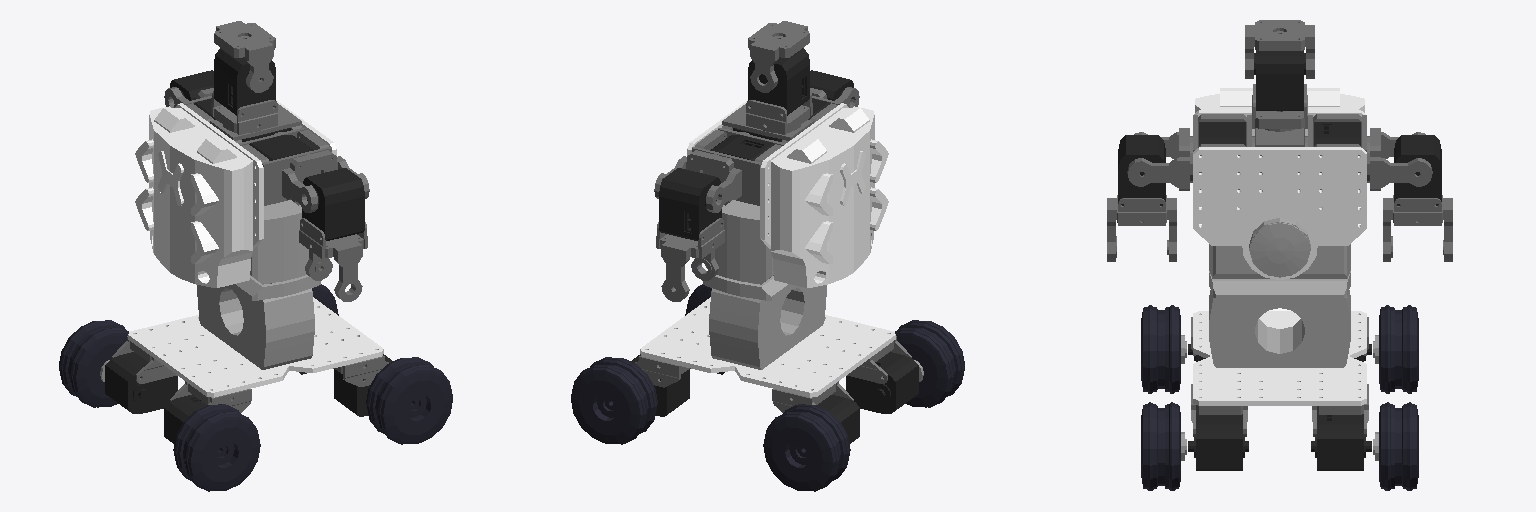
robot.urdf — kashiwagi:
<?xml version="1.0"?>
<robot name="kashiwagi"
       xmlns:xi="http://www.w3.org/2001/XInclude">
  <link name="bodyset93836863171920">
    <visual>
      <origin xyz="0.063 0 0.08" rpy="0 -0 0"/>
      <geometry>
        <mesh filename="package://kxr_models/meshes/kashiwagi/bodyset93836863171920_mesh.dae" scale="1 1 1" />
      </geometry>
    </visual>
    <collision>
      <origin xyz="0.063 0 0.08" rpy="0 -0 0"/>
      <geometry>
        <mesh filename="package://kxr_models/meshes/kashiwagi/bodyset93836863171920_mesh.dae" scale="1 1 1" />
      </geometry>
    </collision>
    <inertial>
      <mass value="0.612389" />
      <origin xyz="-0.003797 1.52277e-10 0.024121" rpy="0 -0 0"/>
      <inertia ixx="0.001795" ixy="-8.2781e-06" ixz="-1.67541e-06" iyy="0.002065" iyz="1.47818e-06" izz="0.003109"/>
    </inertial>
  </link>
  <link name="HEAD_LINK0">
    <visual>
      <origin xyz="-0.00725 0 0.1065" rpy="0 -0 0"/>
      <geometry>
        <mesh filename="package://kxr_models/meshes/kashiwagi/HEAD_LINK0_mesh.dae" scale="1 1 1" />
      </geometry>
    </visual>
    <collision>
      <origin xyz="-0.00725 0 0.1065" rpy="0 -0 0"/>
      <geometry>
        <mesh filename="package://kxr_models/meshes/kashiwagi/HEAD_LINK0_mesh.dae" scale="1 1 1" />
      </geometry>
    </collision>
    <inertial>
      <mass value="0.037398" />
      <origin xyz="-8.67362e-19 1.22056e-18 0.023093" rpy="0 -0 0"/>
      <inertia ixx="8.69139e-05" ixy="-8.41294e-22" ixz="8.61164e-09" iyy="9.09972e-05" iyz="-5.25778e-09" izz="2.5436e-05"/>
    </inertial>
  </link>
  <link name="HEAD_LINK1">
    <visual>
      <origin xyz="0 0 0.036" rpy="0 -0 0"/>
      <geometry>
        <mesh filename="package://kxr_models/meshes/kashiwagi/HEAD_LINK1_mesh.dae" scale="1 1 1" />
      </geometry>
    </visual>
    <collision>
      <origin xyz="0 0 0.036" rpy="0 -0 0"/>
      <geometry>
        <mesh filename="package://kxr_models/meshes/kashiwagi/HEAD_LINK1_mesh.dae" scale="1 1 1" />
      </geometry>
    </collision>
    <inertial>
      <mass value="0.010029" />
      <origin xyz="-8.67362e-19 -1.41698e-18 0.012149" rpy="0 -0 0"/>
      <inertia ixx="7.48977e-05" ixy="-1.14617e-09" ixz="8.66294e-10" iyy="7.40943e-05" iyz="5.39532e-09" izz="4.84628e-06"/>
    </inertial>
  </link>
  <link name="LARM_LINK0">
    <visual>
      <origin xyz="0.00725 0.0465 0.0915" rpy="0 -0 0"/>
      <geometry>
        <mesh filename="package://kxr_models/meshes/kashiwagi/LARM_LINK0_mesh.dae" scale="1 1 1" />
      </geometry>
    </visual>
    <collision>
      <origin xyz="0.00725 0.0465 0.0915" rpy="0 -0 0"/>
      <geometry>
        <mesh filename="package://kxr_models/meshes/kashiwagi/LARM_LINK0_mesh.dae" scale="1 1 1" />
      </geometry>
    </collision>
    <inertial>
      <mass value="0.011355" />
      <origin xyz="-5.20417e-18 0 0.012267" rpy="0 -0 0"/>
      <inertia ixx="5.30156e-05" ixy="-1.82679e-09" ixz="1.62901e-09" iyy="3.96605e-05" iyz="3.6276e-09" izz="1.8654e-05"/>
    </inertial>
  </link>
  <link name="LARM_LINK1">
    <visual>
      <origin xyz="0 0.029 0" rpy="0 -0 0"/>
      <geometry>
        <mesh filename="package://kxr_models/meshes/kashiwagi/LARM_LINK1_mesh.dae" scale="1 1 1" />
      </geometry>
    </visual>
    <collision>
      <origin xyz="0 0.029 0" rpy="0 -0 0"/>
      <geometry>
        <mesh filename="package://kxr_models/meshes/kashiwagi/LARM_LINK1_mesh.dae" scale="1 1 1" />
      </geometry>
    </collision>
    <inertial>
      <mass value="0.042494" />
      <origin xyz="-6.07153e-18 0 -0.016632" rpy="0 -0 0"/>
      <inertia ixx="7.93507e-05" ixy="-1.82679e-09" ixz="1.02406e-08" iyy="4.90024e-05" iyz="-1.63018e-09" izz="6.06587e-05"/>
    </inertial>
  </link>
  <link name="LLEG_LINK0">
    <visual>
      <origin xyz="0.063 0.048 -0.056" rpy="0 -0 0"/>
      <geometry>
        <mesh filename="package://kxr_models/meshes/kashiwagi/LLEG_LINK0_mesh.dae" scale="1 1 1" />
      </geometry>
    </visual>
    <collision>
      <origin xyz="0.063 0.048 -0.056" rpy="0 -0 0"/>
      <geometry>
        <mesh filename="package://kxr_models/meshes/kashiwagi/LLEG_LINK0_mesh.dae" scale="1 1 1" />
      </geometry>
    </collision>
    <inertial>
      <mass value="0.04244" />
      <origin xyz="0 0.013847 6.93889e-18" rpy="0 -0 0"/>
      <inertia ixx="5.68252e-05" ixy="1.24349e-22" ixz="2.72088e-23" iyy="5.77935e-05" iyz="2.36521e-21" izz="8.65005e-05"/>
    </inertial>
  </link>
  <link name="LLEG_LINK1">
    <visual>
      <origin xyz="-0.063 0.048 -0.056" rpy="0 -0 0"/>
      <geometry>
        <mesh filename="package://kxr_models/meshes/kashiwagi/LLEG_LINK1_mesh.dae" scale="1 1 1" />
      </geometry>
    </visual>
    <collision>
      <origin xyz="-0.063 0.048 -0.056" rpy="0 -0 0"/>
      <geometry>
        <mesh filename="package://kxr_models/meshes/kashiwagi/LLEG_LINK1_mesh.dae" scale="1 1 1" />
      </geometry>
    </collision>
    <inertial>
      <mass value="0.04244" />
      <origin xyz="0 0.013847 6.93889e-18" rpy="0 -0 0"/>
      <inertia ixx="5.68252e-05" ixy="1.23549e-22" ixz="3.06644e-23" iyy="5.77935e-05" iyz="-1.96682e-21" izz="8.65005e-05"/>
    </inertial>
  </link>
  <link name="RARM_LINK0">
    <visual>
      <origin xyz="0.00725 -0.0465 0.0915" rpy="0 -0 0"/>
      <geometry>
        <mesh filename="package://kxr_models/meshes/kashiwagi/RARM_LINK0_mesh.dae" scale="1 1 1" />
      </geometry>
    </visual>
    <collision>
      <origin xyz="0.00725 -0.0465 0.0915" rpy="0 -0 0"/>
      <geometry>
        <mesh filename="package://kxr_models/meshes/kashiwagi/RARM_LINK0_mesh.dae" scale="1 1 1" />
      </geometry>
    </collision>
    <inertial>
      <mass value="0.011355" />
      <origin xyz="-5.20417e-18 0 0.012267" rpy="0 -0 0"/>
      <inertia ixx="5.30156e-05" ixy="-1.82679e-09" ixz="1.62901e-09" iyy="3.96605e-05" iyz="3.6276e-09" izz="1.8654e-05"/>
    </inertial>
  </link>
  <link name="RARM_LINK1">
    <visual>
      <origin xyz="0 -0.029 0" rpy="0 -0 0"/>
      <geometry>
        <mesh filename="package://kxr_models/meshes/kashiwagi/RARM_LINK1_mesh.dae" scale="1 1 1" />
      </geometry>
    </visual>
    <collision>
      <origin xyz="0 -0.029 0" rpy="0 -0 0"/>
      <geometry>
        <mesh filename="package://kxr_models/meshes/kashiwagi/RARM_LINK1_mesh.dae" scale="1 1 1" />
      </geometry>
    </collision>
    <inertial>
      <mass value="0.042494" />
      <origin xyz="-6.07153e-18 0 -0.016632" rpy="0 -0 0"/>
      <inertia ixx="7.93507e-05" ixy="-1.82679e-09" ixz="1.02406e-08" iyy="4.90024e-05" iyz="-1.63018e-09" izz="6.06587e-05"/>
    </inertial>
  </link>
  <link name="RLEG_LINK0">
    <visual>
      <origin xyz="0.063 -0.048 -0.056" rpy="0 -0 0"/>
      <geometry>
        <mesh filename="package://kxr_models/meshes/kashiwagi/RLEG_LINK0_mesh.dae" scale="1 1 1" />
      </geometry>
    </visual>
    <collision>
      <origin xyz="0.063 -0.048 -0.056" rpy="0 -0 0"/>
      <geometry>
        <mesh filename="package://kxr_models/meshes/kashiwagi/RLEG_LINK0_mesh.dae" scale="1 1 1" />
      </geometry>
    </collision>
    <inertial>
      <mass value="0.04244" />
      <origin xyz="0 0.013847 6.93889e-18" rpy="0 -0 0"/>
      <inertia ixx="5.68252e-05" ixy="1.23677e-22" ixz="3.35121e-23" iyy="5.77935e-05" iyz="5.02547e-23" izz="8.65005e-05"/>
    </inertial>
  </link>
  <link name="RLEG_LINK1">
    <visual>
      <origin xyz="-0.063 -0.048 -0.056" rpy="0 -0 0"/>
      <geometry>
        <mesh filename="package://kxr_models/meshes/kashiwagi/RLEG_LINK1_mesh.dae" scale="1 1 1" />
      </geometry>
    </visual>
    <collision>
      <origin xyz="-0.063 -0.048 -0.056" rpy="0 -0 0"/>
      <geometry>
        <mesh filename="package://kxr_models/meshes/kashiwagi/RLEG_LINK1_mesh.dae" scale="1 1 1" />
      </geometry>
    </collision>
    <inertial>
      <mass value="0.04244" />
      <origin xyz="0 0.013847 6.93889e-18" rpy="0 -0 0"/>
      <inertia ixx="5.68252e-05" ixy="1.22878e-22" ixz="3.79086e-23" iyy="5.77935e-05" iyz="-3.13686e-21" izz="8.65005e-05"/>
    </inertial>
  </link>
  <joint name="HEAD_JOINT0" type="revolute">
    <parent link="bodyset93836863171920"/>
    <child  link="HEAD_LINK0"/>
    <origin xyz="-0.00725 0 0.1065" rpy="0 -0 0 "/>
    <axis   xyz="0 0 -1"/>
    <limit lower="-2.96706" upper="2.96706" effort="0.656248" velocity="7.47998" />
    <dynamics damping="0.2" friction="0" />
  </joint>
  <joint name="HEAD_JOINT1" type="revolute">
    <parent link="HEAD_LINK0"/>
    <child  link="HEAD_LINK1"/>
    <origin xyz="0 0 0.036" rpy="0 -0 0 "/>
    <axis   xyz="0 -1 0"/>
    <limit lower="-2.0944" upper="2.0944" effort="0.656248" velocity="7.47998" />
    <dynamics damping="0.2" friction="0" />
  </joint>
  <joint name="LARM_JOINT0" type="revolute">
    <parent link="bodyset93836863171920"/>
    <child  link="LARM_LINK0"/>
    <origin xyz="0.00725 0.0465 0.0915" rpy="0 -0 0 "/>
    <axis   xyz="0 -1 0"/>
    <limit lower="-3.14159" upper="3.14159" effort="0.656248" velocity="7.47998" />
    <dynamics damping="0.2" friction="0" />
  </joint>
  <joint name="LARM_JOINT1" type="revolute">
    <parent link="LARM_LINK0"/>
    <child  link="LARM_LINK1"/>
    <origin xyz="0 0.029 0" rpy="0 -0 0 "/>
    <axis   xyz="1 0 0"/>
    <limit lower="-0.523599" upper="3.22886" effort="0.656248" velocity="7.47998" />
    <dynamics damping="0.2" friction="0" />
  </joint>
  <joint name="LLEG_JOINT0" type="revolute">
    <parent link="bodyset93836863171920"/>
    <child  link="LLEG_LINK0"/>
    <origin xyz="0.063 0.048 -0.056" rpy="0 -0 0 "/>
    <axis   xyz="0 1 0"/>
    <limit lower="-1745.33" upper="1745.33" effort="0.656248" velocity="7.47998" />
    <dynamics damping="0.2" friction="0" />
  </joint>
  <joint name="LLEG_JOINT1" type="revolute">
    <parent link="bodyset93836863171920"/>
    <child  link="LLEG_LINK1"/>
    <origin xyz="-0.063 0.048 -0.056" rpy="0 -0 0 "/>
    <axis   xyz="0 1 0"/>
    <limit lower="-1745.33" upper="1745.33" effort="0.656248" velocity="7.47998" />
    <dynamics damping="0.2" friction="0" />
  </joint>
  <joint name="RARM_JOINT0" type="revolute">
    <parent link="bodyset93836863171920"/>
    <child  link="RARM_LINK0"/>
    <origin xyz="0.00725 -0.0465 0.0915" rpy="0 -0 0 "/>
    <axis   xyz="0 1 0"/>
    <limit lower="-3.14159" upper="3.14159" effort="0.656248" velocity="7.47998" />
    <dynamics damping="0.2" friction="0" />
  </joint>
  <joint name="RARM_JOINT1" type="revolute">
    <parent link="RARM_LINK0"/>
    <child  link="RARM_LINK1"/>
    <origin xyz="0 -0.029 0" rpy="0 -0 0 "/>
    <axis   xyz="1 0 0"/>
    <limit lower="-3.22886" upper="0.523599" effort="0.656248" velocity="7.47998" />
    <dynamics damping="0.2" friction="0" />
  </joint>
  <joint name="RLEG_JOINT0" type="revolute">
    <parent link="bodyset93836863171920"/>
    <child  link="RLEG_LINK0"/>
    <origin xyz="0.063 -0.048 -0.056" rpy="0 -0 0 "/>
    <axis   xyz="0 1 0"/>
    <limit lower="-1745.33" upper="1745.33" effort="0.656248" velocity="7.47998" />
    <dynamics damping="0.2" friction="0" />
  </joint>
  <joint name="RLEG_JOINT1" type="revolute">
    <parent link="bodyset93836863171920"/>
    <child  link="RLEG_LINK1"/>
    <origin xyz="-0.063 -0.048 -0.056" rpy="0 -0 0 "/>
    <axis   xyz="0 1 0"/>
    <limit lower="-1745.33" upper="1745.33" effort="0.656248" velocity="7.47998" />
    <dynamics damping="0.2" friction="0" />
  </joint>
</robot>

--- Facts derived from the render (not from the file) ---
3 views of the same robot in one strip: view 1: azimuth 30°, elevation 25°; view 2: azimuth 150°, elevation 25°; view 3: azimuth 270°, elevation 25° (orthographic).
Robot: kashiwagi — 11 links, 10 joints (10 revolute); root link bodyset93836863171920; default pose: all joints at 0.
Visible links, largest first — view 1: bodyset93836863171920, RARM_LINK1, RLEG_LINK1, RLEG_LINK0, LLEG_LINK1, HEAD_LINK0, HEAD_LINK1, RARM_LINK0, LARM_LINK1; view 2: bodyset93836863171920, LARM_LINK1, LLEG_LINK1, LLEG_LINK0, HEAD_LINK0, RLEG_LINK1, HEAD_LINK1, LARM_LINK0, RARM_LINK1; view 3: bodyset93836863171920, LARM_LINK1, RARM_LINK1, HEAD_LINK0, LLEG_LINK1, RLEG_LINK1, LLEG_LINK0, RLEG_LINK0, HEAD_LINK1, LARM_LINK0, RARM_LINK0.
Boxes of the visible links, bbox=[...] form: bodyset93836863171920: bbox=[105, 96, 392, 443]; RARM_LINK1: bbox=[299, 168, 367, 301]; RLEG_LINK1: bbox=[173, 404, 260, 491]; RLEG_LINK0: bbox=[366, 357, 452, 444]; LLEG_LINK1: bbox=[59, 320, 128, 407]; HEAD_LINK0: bbox=[211, 48, 277, 134]; HEAD_LINK1: bbox=[214, 21, 275, 92]; RARM_LINK0: bbox=[282, 150, 369, 212]; LARM_LINK1: bbox=[170, 70, 213, 100]; bodyset93836863171920: bbox=[631, 96, 918, 443]; LARM_LINK1: bbox=[656, 168, 724, 301]; LLEG_LINK1: bbox=[763, 404, 850, 491]; LLEG_LINK0: bbox=[571, 357, 657, 444]; HEAD_LINK0: bbox=[746, 48, 812, 134]; RLEG_LINK1: bbox=[895, 320, 964, 407]; HEAD_LINK1: bbox=[748, 21, 809, 92]; LARM_LINK0: bbox=[654, 150, 741, 212]; RARM_LINK1: bbox=[810, 70, 853, 100]; bodyset93836863171920: bbox=[1188, 88, 1371, 470]; LARM_LINK1: bbox=[1383, 135, 1452, 261]; RARM_LINK1: bbox=[1107, 135, 1176, 261]; HEAD_LINK0: bbox=[1252, 50, 1307, 128]; LLEG_LINK1: bbox=[1373, 305, 1418, 393]; RLEG_LINK1: bbox=[1141, 305, 1186, 393]; LLEG_LINK0: bbox=[1373, 402, 1418, 490]; RLEG_LINK0: bbox=[1141, 402, 1186, 490]; HEAD_LINK1: bbox=[1245, 20, 1314, 78]; LARM_LINK0: bbox=[1370, 128, 1432, 190]; RARM_LINK0: bbox=[1127, 128, 1189, 190].
Size in the robot's own frame: 0.175 by 0.189 by 0.243 metres.
11 mesh visuals loaded from 11 distinct referenced files (11 Collada DAE).
